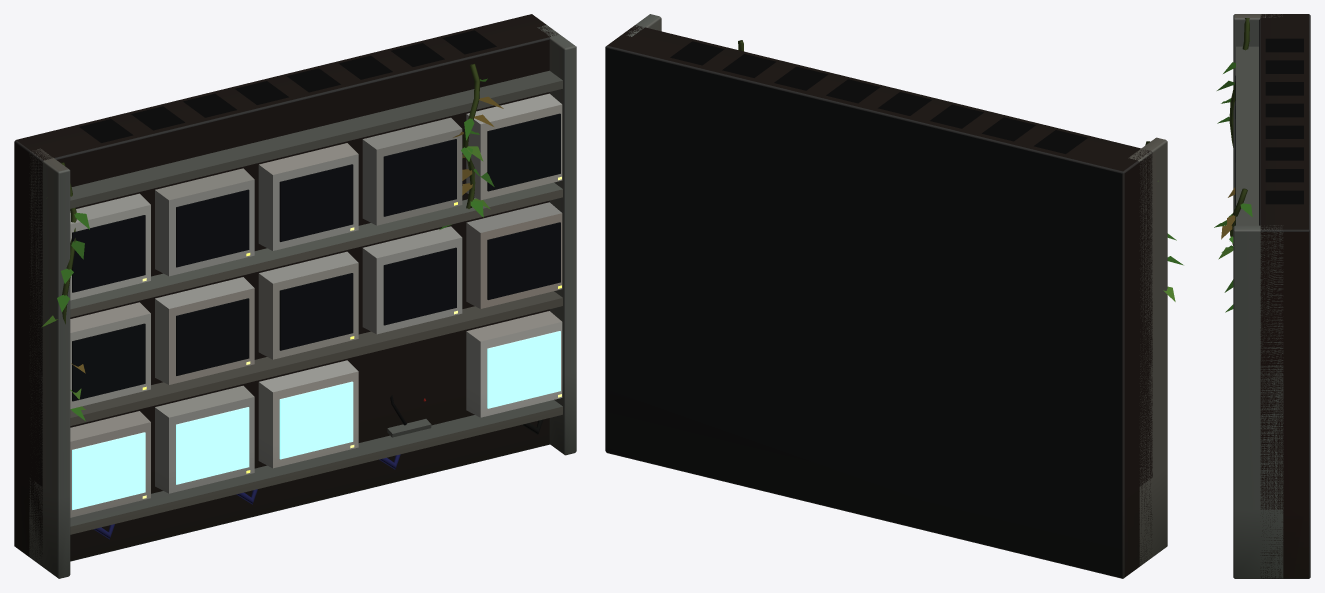
Rendered from monitor_bank.glb.
3 renders of one model, left to right at view 1: azimuth 30°, elevation 25°; view 2: azimuth 150°, elevation 25°; view 3: azimuth 270°, elevation 25°, orthographic. The views are drawn at different scales.
Visible parts, largest first — view 1: Body, Lit; view 2: Body; view 3: Body.
Part boxes in pixels (left/top/right/bottom): Body: left=14, top=14, right=576, bottom=578; Lit: left=72, top=331, right=560, bottom=509; Body: left=605, top=14, right=1183, bottom=578; Body: left=1214, top=14, right=1310, bottom=578.
Bounding box in the file's own units: 4.09 × 3.01 × 0.7557.
